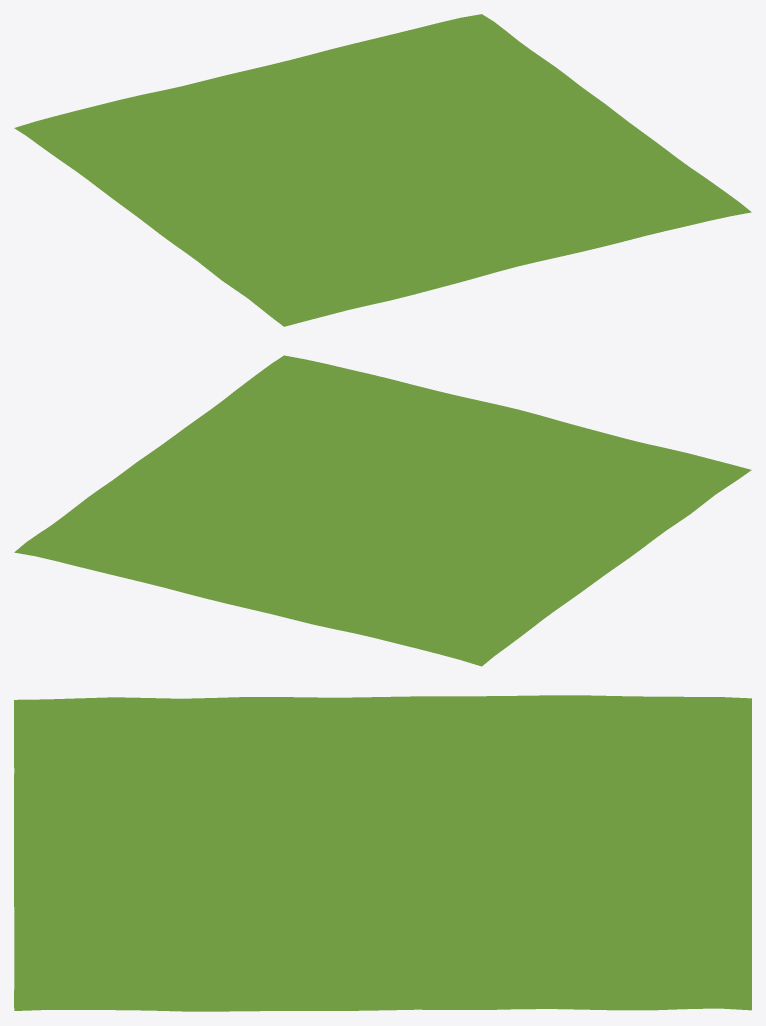
Rendered from Terrain.fbx.
3 renders of one model, top to bottom at view 1: azimuth 30°, elevation 25°; view 2: azimuth 150°, elevation 25°; view 3: azimuth 270°, elevation 25°, orthographic. The views are drawn at different scales.
Visible parts, largest first — view 1: Plane; view 2: Plane; view 3: Plane.
Part boxes in pixels (x1,y1,x2,y2): Plane: (14, 14, 751, 326); Plane: (14, 355, 751, 666); Plane: (14, 695, 751, 1011).
Bounding box in the file's own units: 21.8 × 0.3024 × 21.81.
